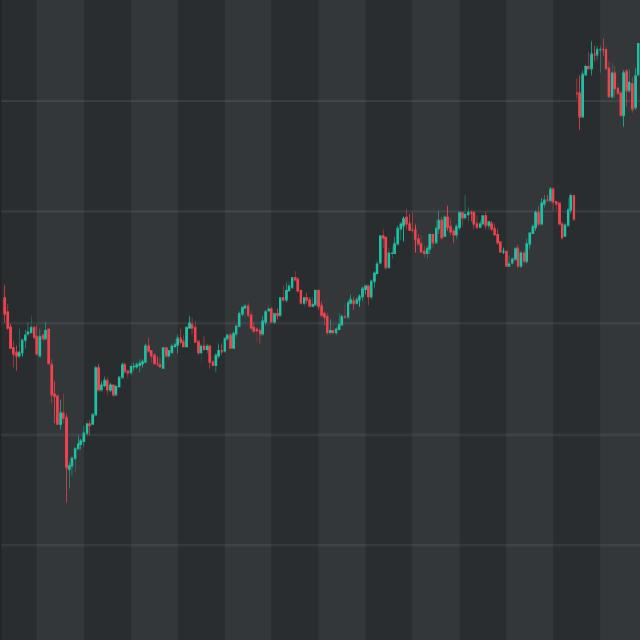Channel-up: (57, 19, 640, 555)
